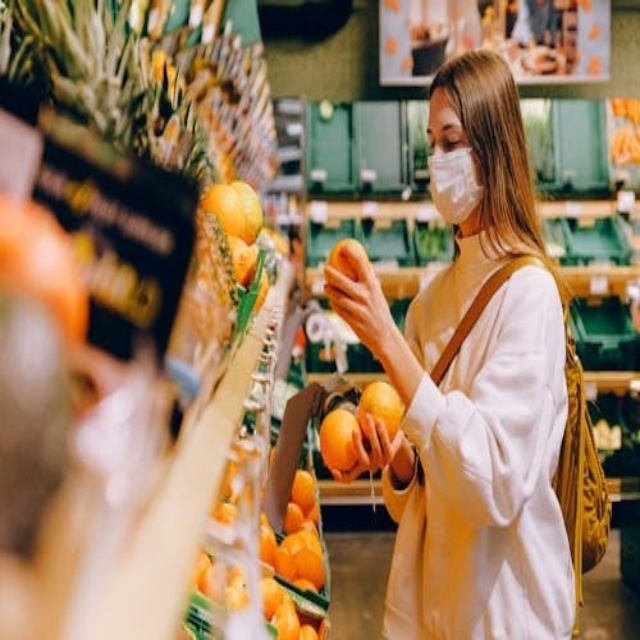Mascara: (427, 145, 486, 225)
Sin_gafas: (424, 111, 466, 156)
Sin_guantes: (320, 242, 398, 359), (339, 409, 400, 483)
